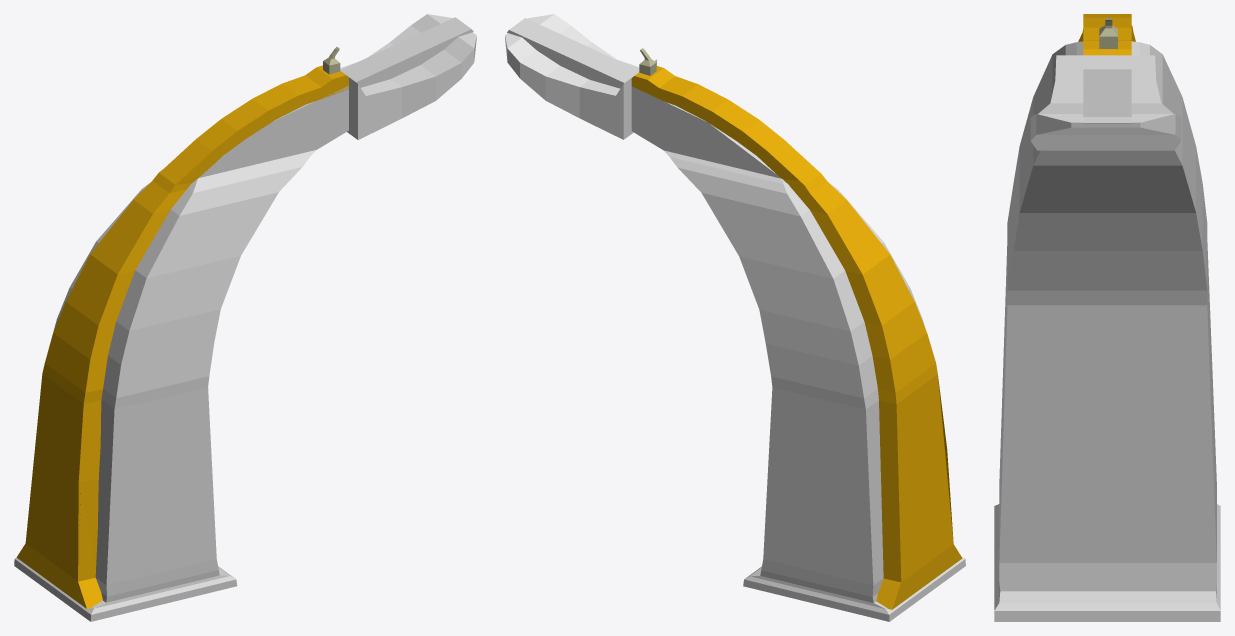
Rendered from ahmedin_suihkulahde1.fbx.
3 renders of one model, left to right at view 1: azimuth 30°, elevation 25°; view 2: azimuth 150°, elevation 25°; view 3: azimuth 270°, elevation 25°, orthographic. The views are drawn at different scales.
Parts seen in each view (by area): view 1: Cube, body selkkä, kuoppa.001; view 2: Cube, body selkkä, kuoppa.001; view 3: Cube, kuoppa.001, body selkkä, hänä.
Boxes of the visible parts, x1,y1,x2,y2 form: Cube: (14,17,473,621); body selkkä: (16,65,348,608); kuoppa.001: (340,14,476,139); Cube: (507,18,965,621); body selkkä: (631,66,962,609); kuoppa.001: (505,14,656,139); Cube: (994,41,1220,621); kuoppa.001: (1030,55,1181,150); body selkkä: (1078,14,1135,55); hänä: (1099,18,1117,48).
Size of the model in its own units: 442 by 487 by 142.
